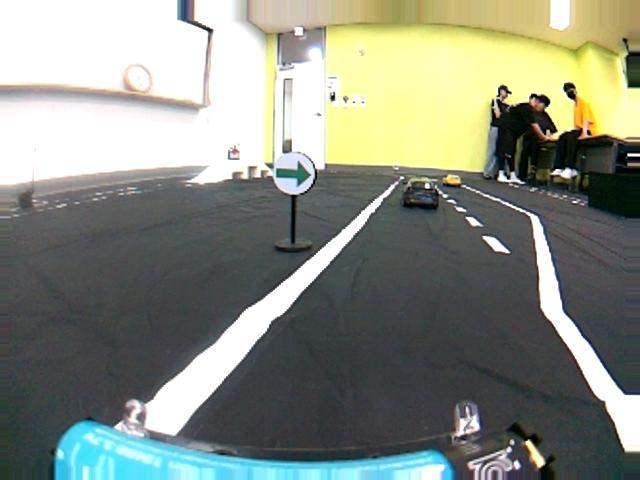car: (403, 175, 444, 216)
sign_right: (269, 146, 319, 198)
straight: (45, 272, 640, 475)
